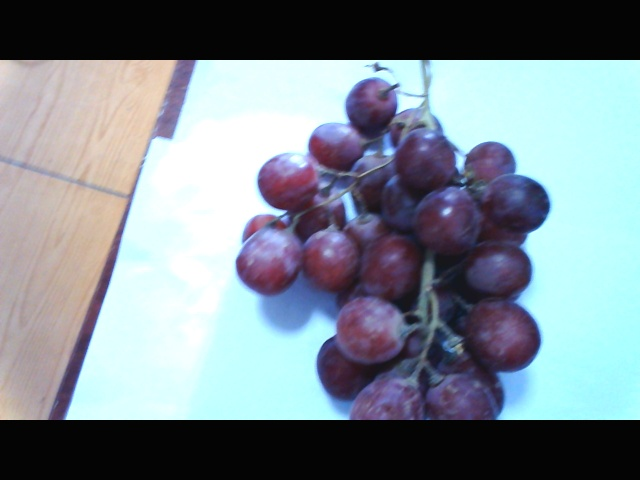grape: (238, 77, 569, 412)
